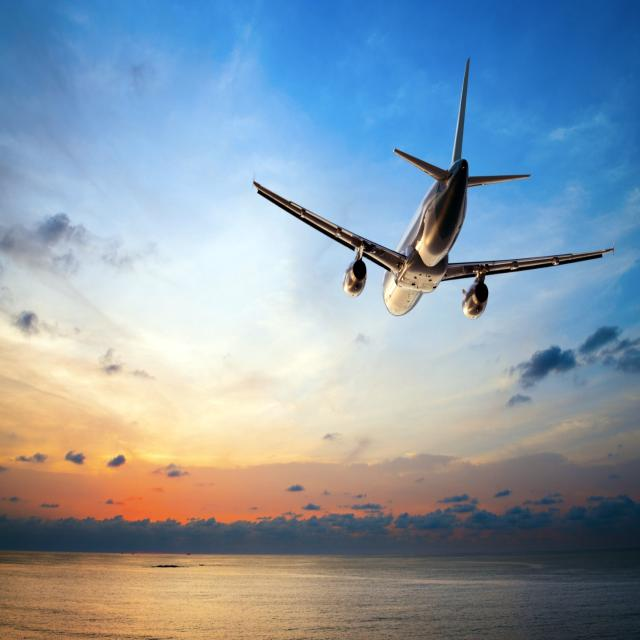plain: (246, 67, 590, 340)
